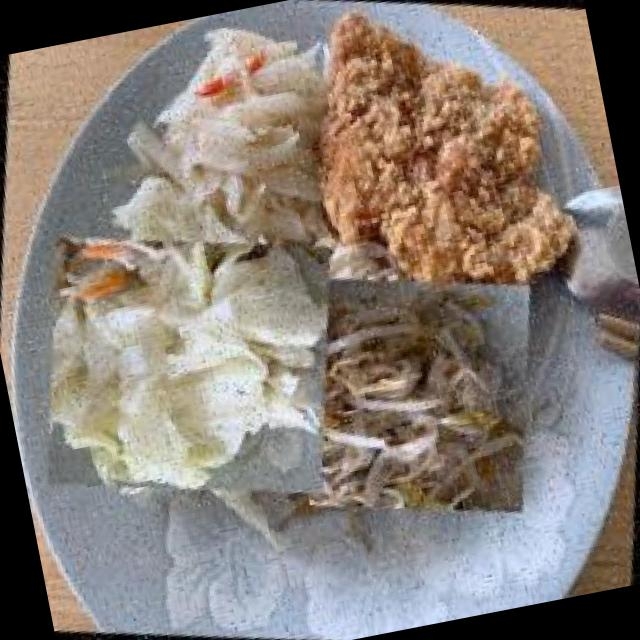chinese_cabbage: (6, 181, 374, 548)
fried_chicken: (263, 0, 629, 345)
mung_bean_sprouts: (266, 240, 574, 550)
